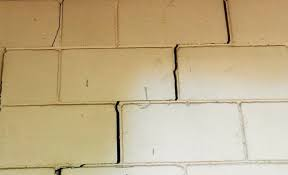stairstep_crack: (52, 0, 231, 174)
